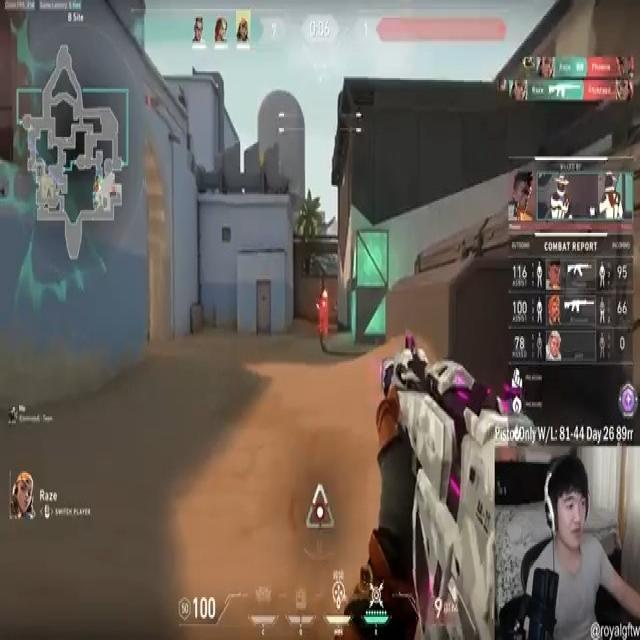enemy: (318, 290, 329, 335)
